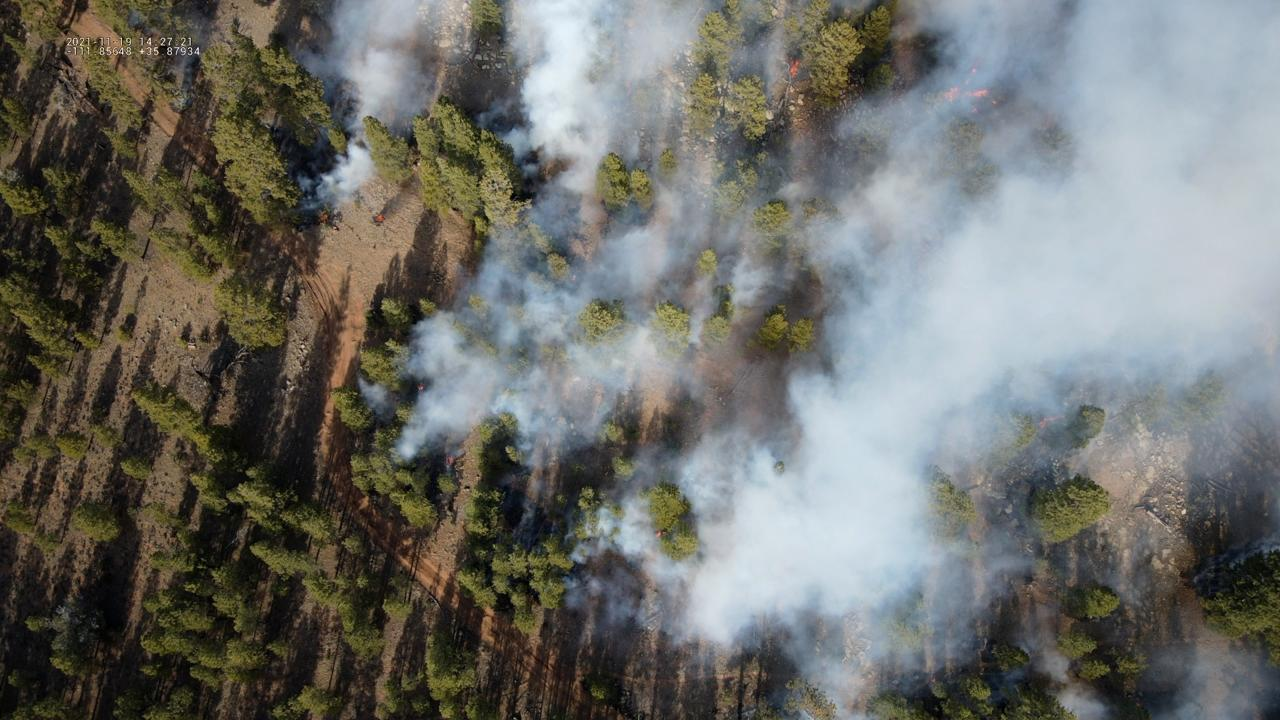fire: (944, 86, 990, 104), (1038, 414, 1062, 428), (788, 58, 802, 78), (445, 454, 455, 468), (319, 212, 330, 223), (375, 213, 385, 224), (416, 382, 425, 392), (970, 65, 978, 75), (570, 274, 578, 283), (655, 531, 663, 540), (931, 677, 937, 684)
smoke: (289, 0, 1280, 720), (126, 8, 211, 92)
